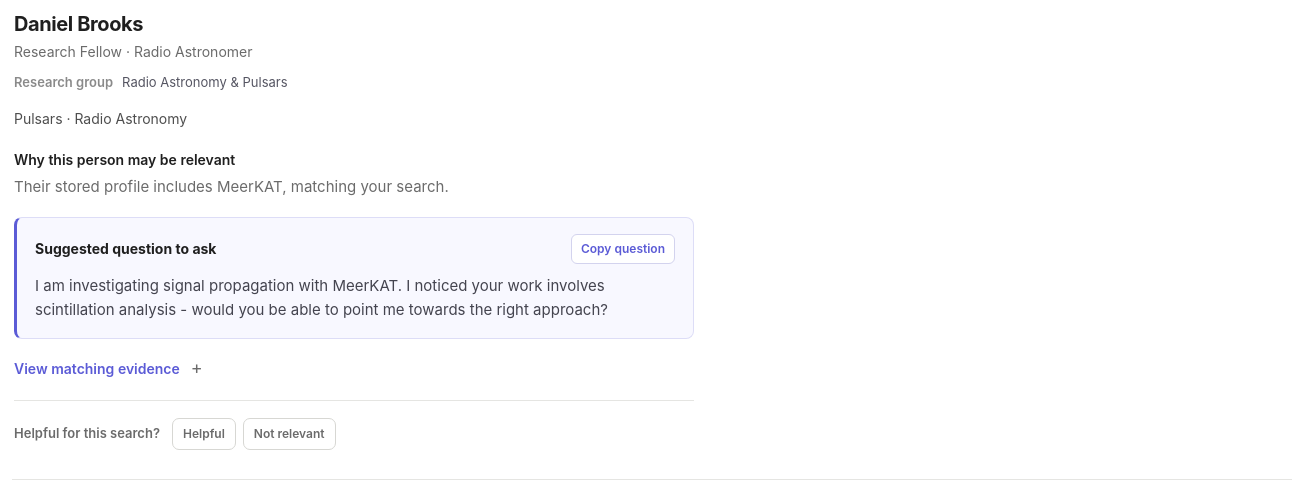
SearchResult evidence disclosure › preserves the saved answer when an update fails
Click the button "Helpful".
click(204, 434)  # box [172,418,236,450]
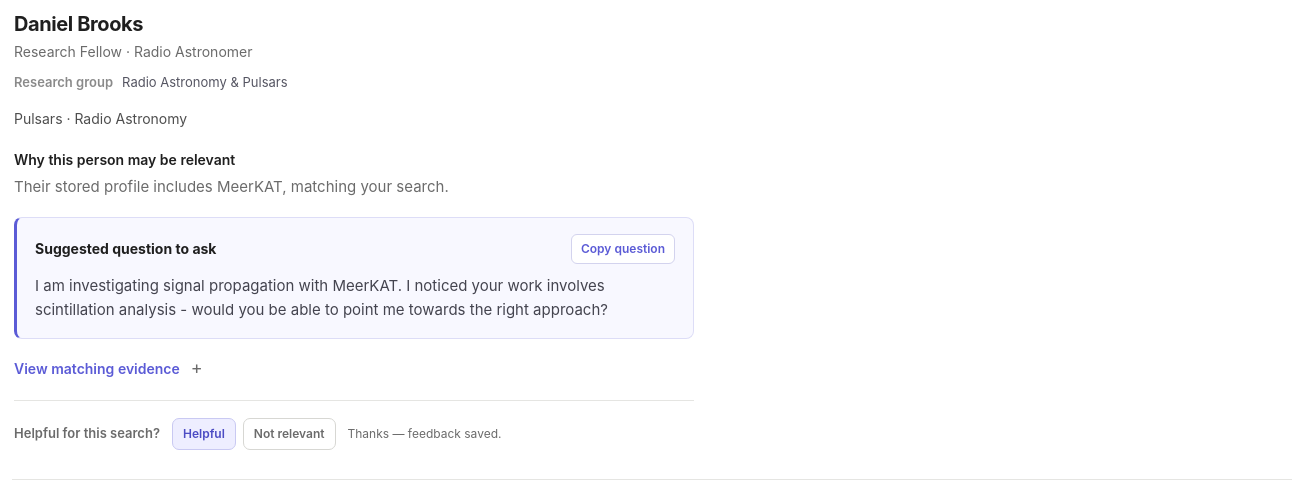
Click the button "Not relevant".
click(289, 434)  # box [243,418,336,450]
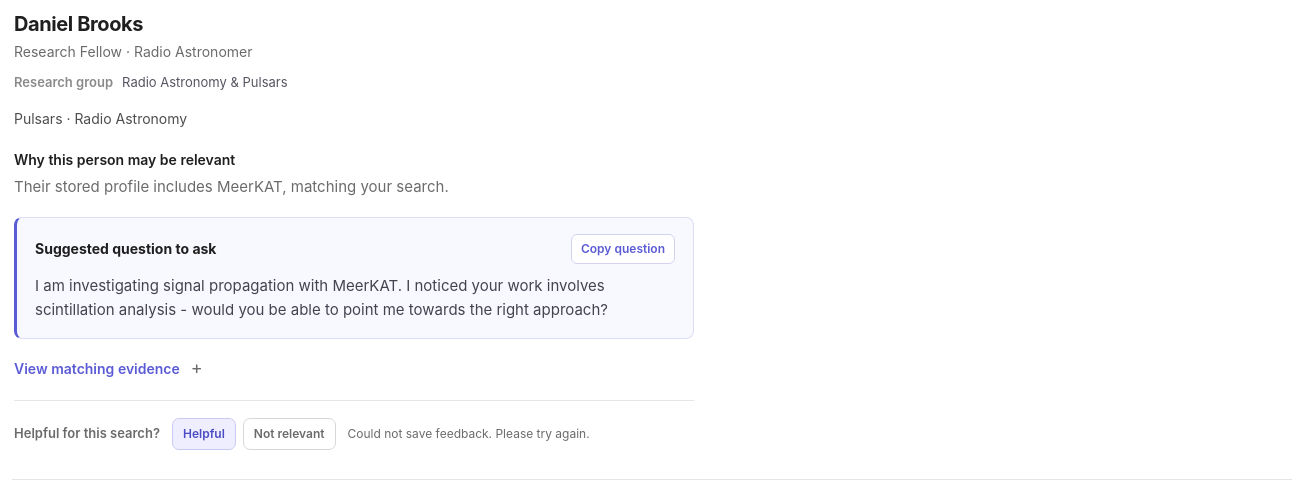
Check: the text "Could not save feedback. Please try again." is shown, box [348,424,590,442]
